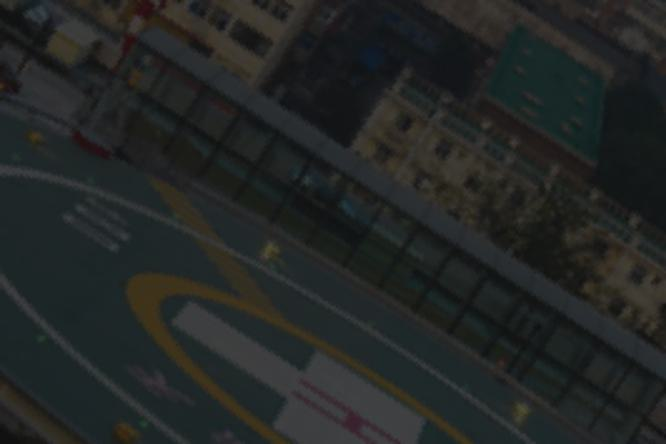Apron: (122, 264, 469, 444)
